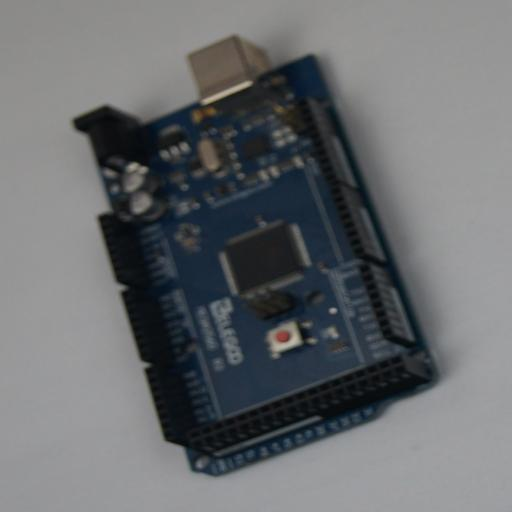Arduino Mega 2560 -Blue-: (72, 36, 441, 477)
